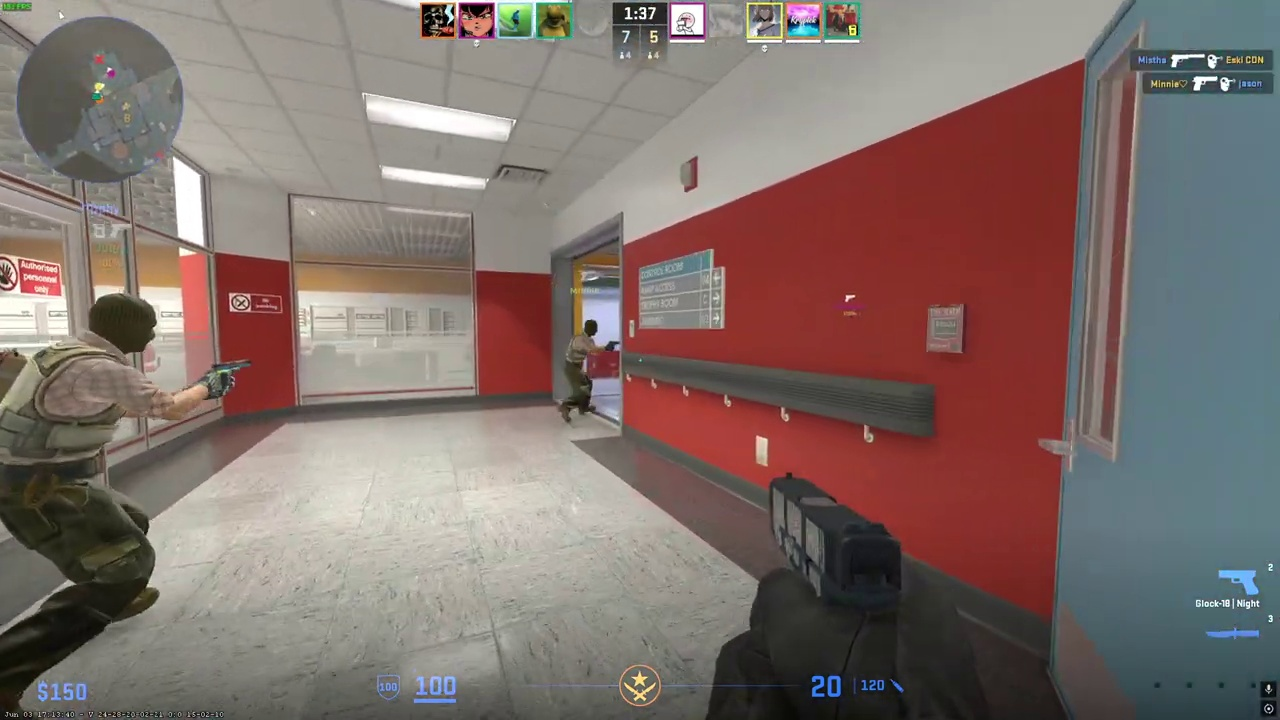Terrorist: (0, 291, 173, 720), (558, 317, 605, 424)
